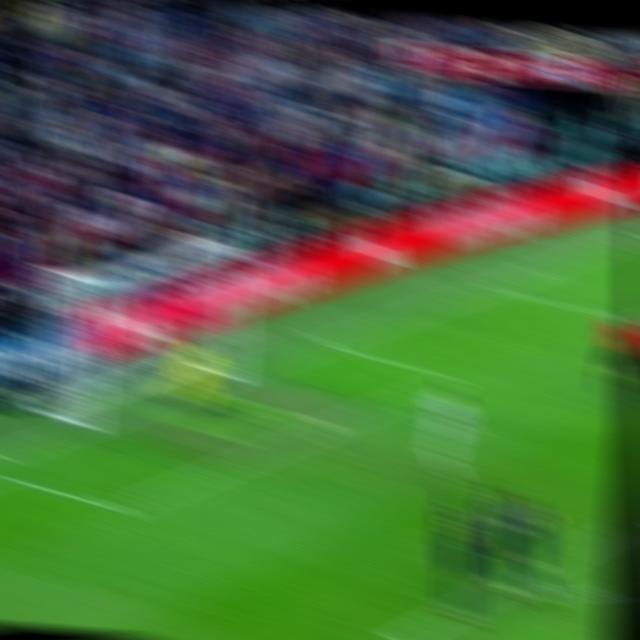bigarea_top_outter: (472, 273, 507, 299)
smallarea_bottom_inner: (97, 485, 145, 533)
smallarea_top_inner: (438, 360, 474, 392)
smallarea_top_outter: (307, 329, 343, 359)
